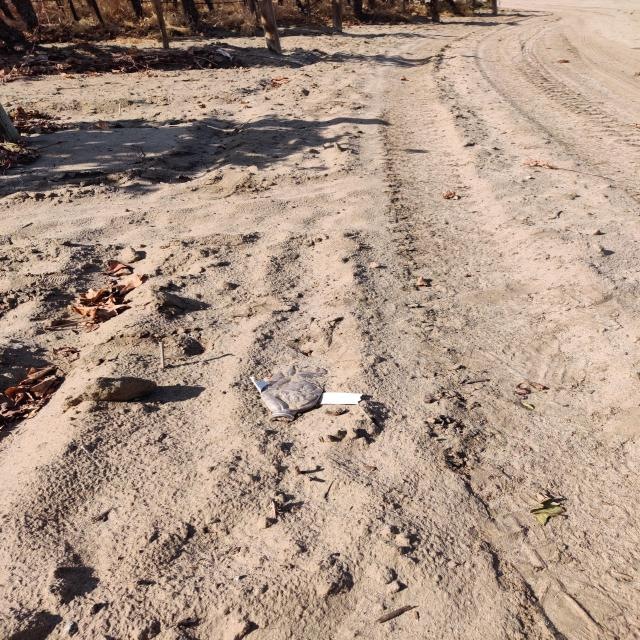litter: (247, 362, 365, 424)
